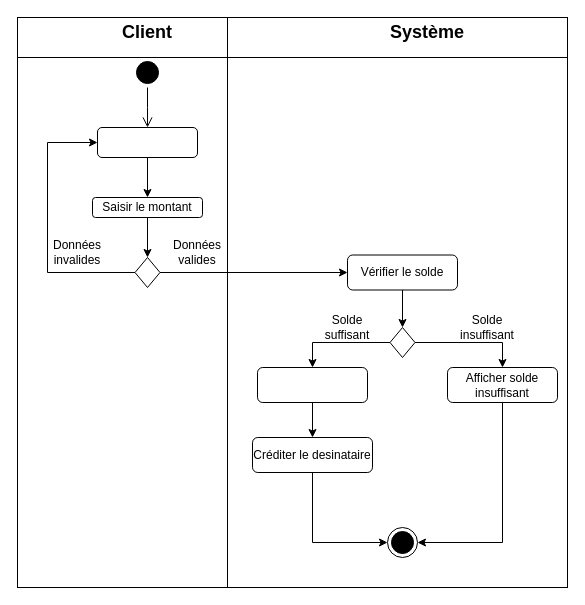
This 585x605 diagram has some shape labels left out. Each missing label, with the centre of its shape:
"Débiter l'expéditeur" goes at point (312, 384).
"Sasir les données du destinataires" goes at point (147, 142).
